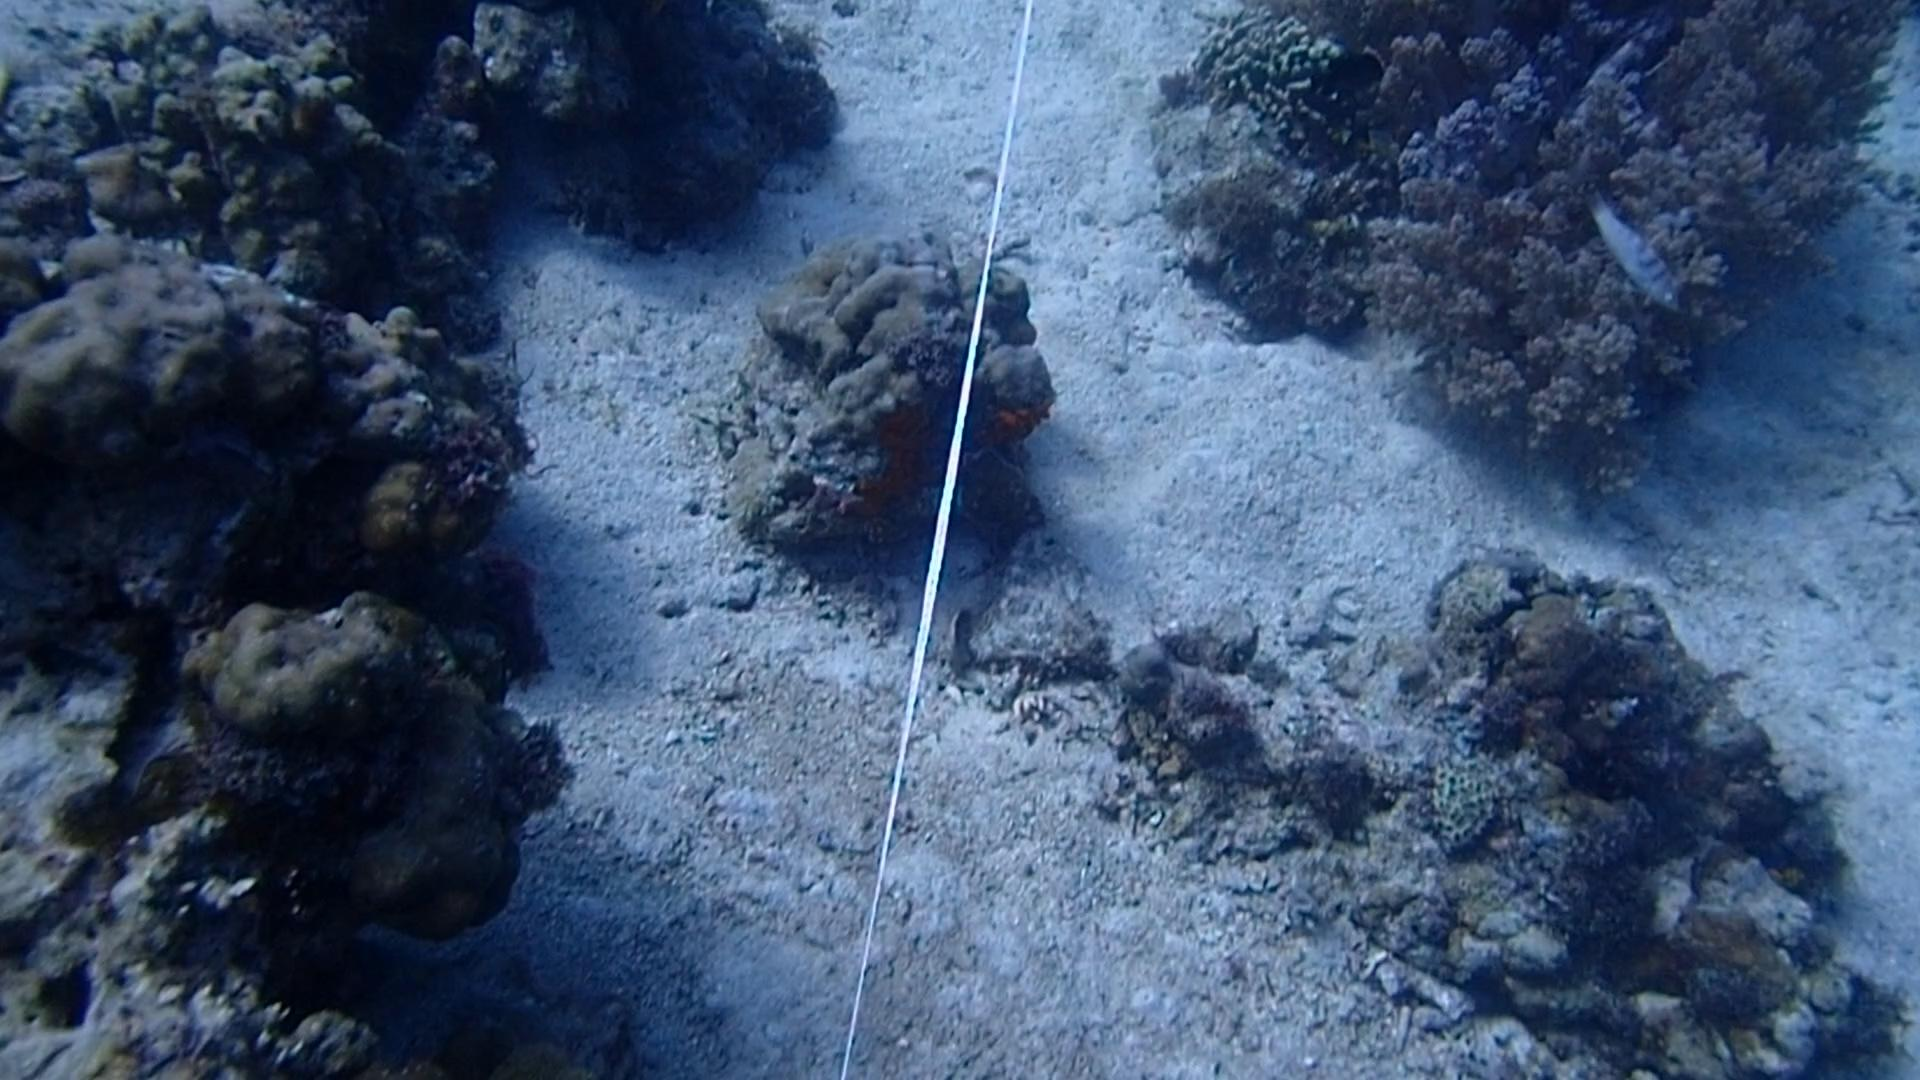Dark Fish: (1296, 42, 1389, 112)
Light Fish w Back Stripes: (1572, 185, 1691, 306)
